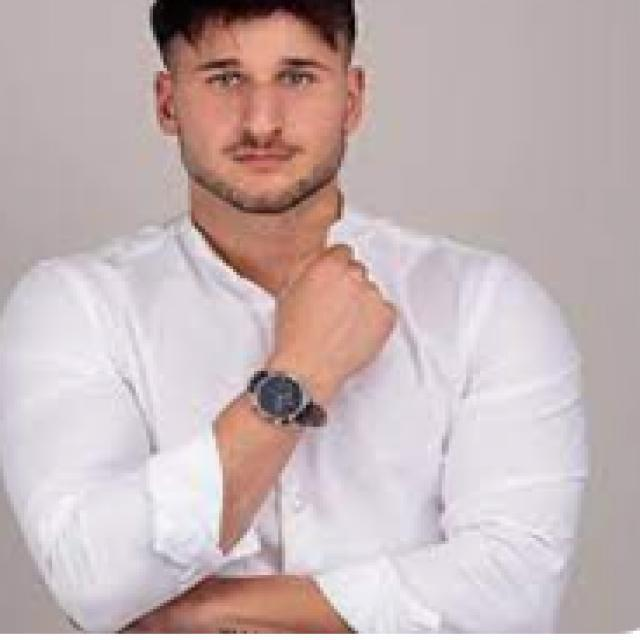Watch: (242, 362, 330, 434)
